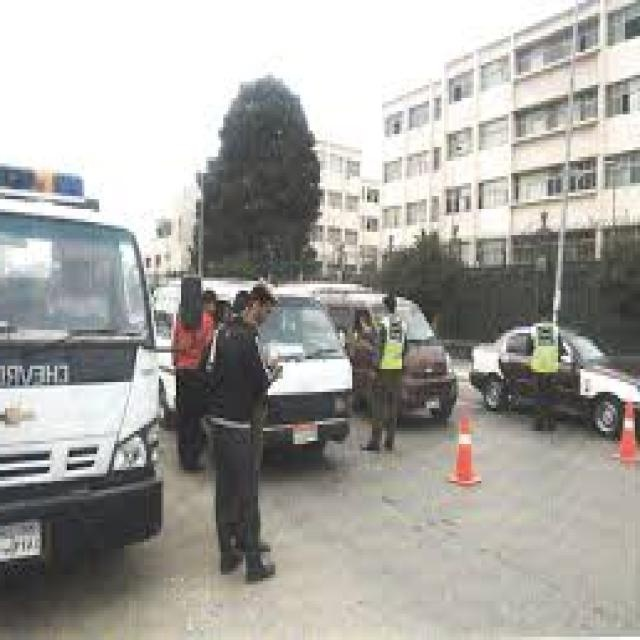car: (254, 275, 355, 516), (471, 320, 640, 441)
person: (172, 289, 281, 559), (360, 290, 409, 450)
police-car: (0, 111, 152, 587)
